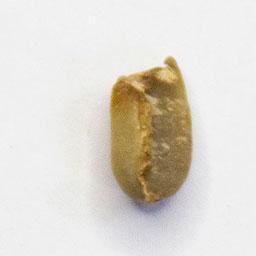defect: (106, 53, 195, 206)
